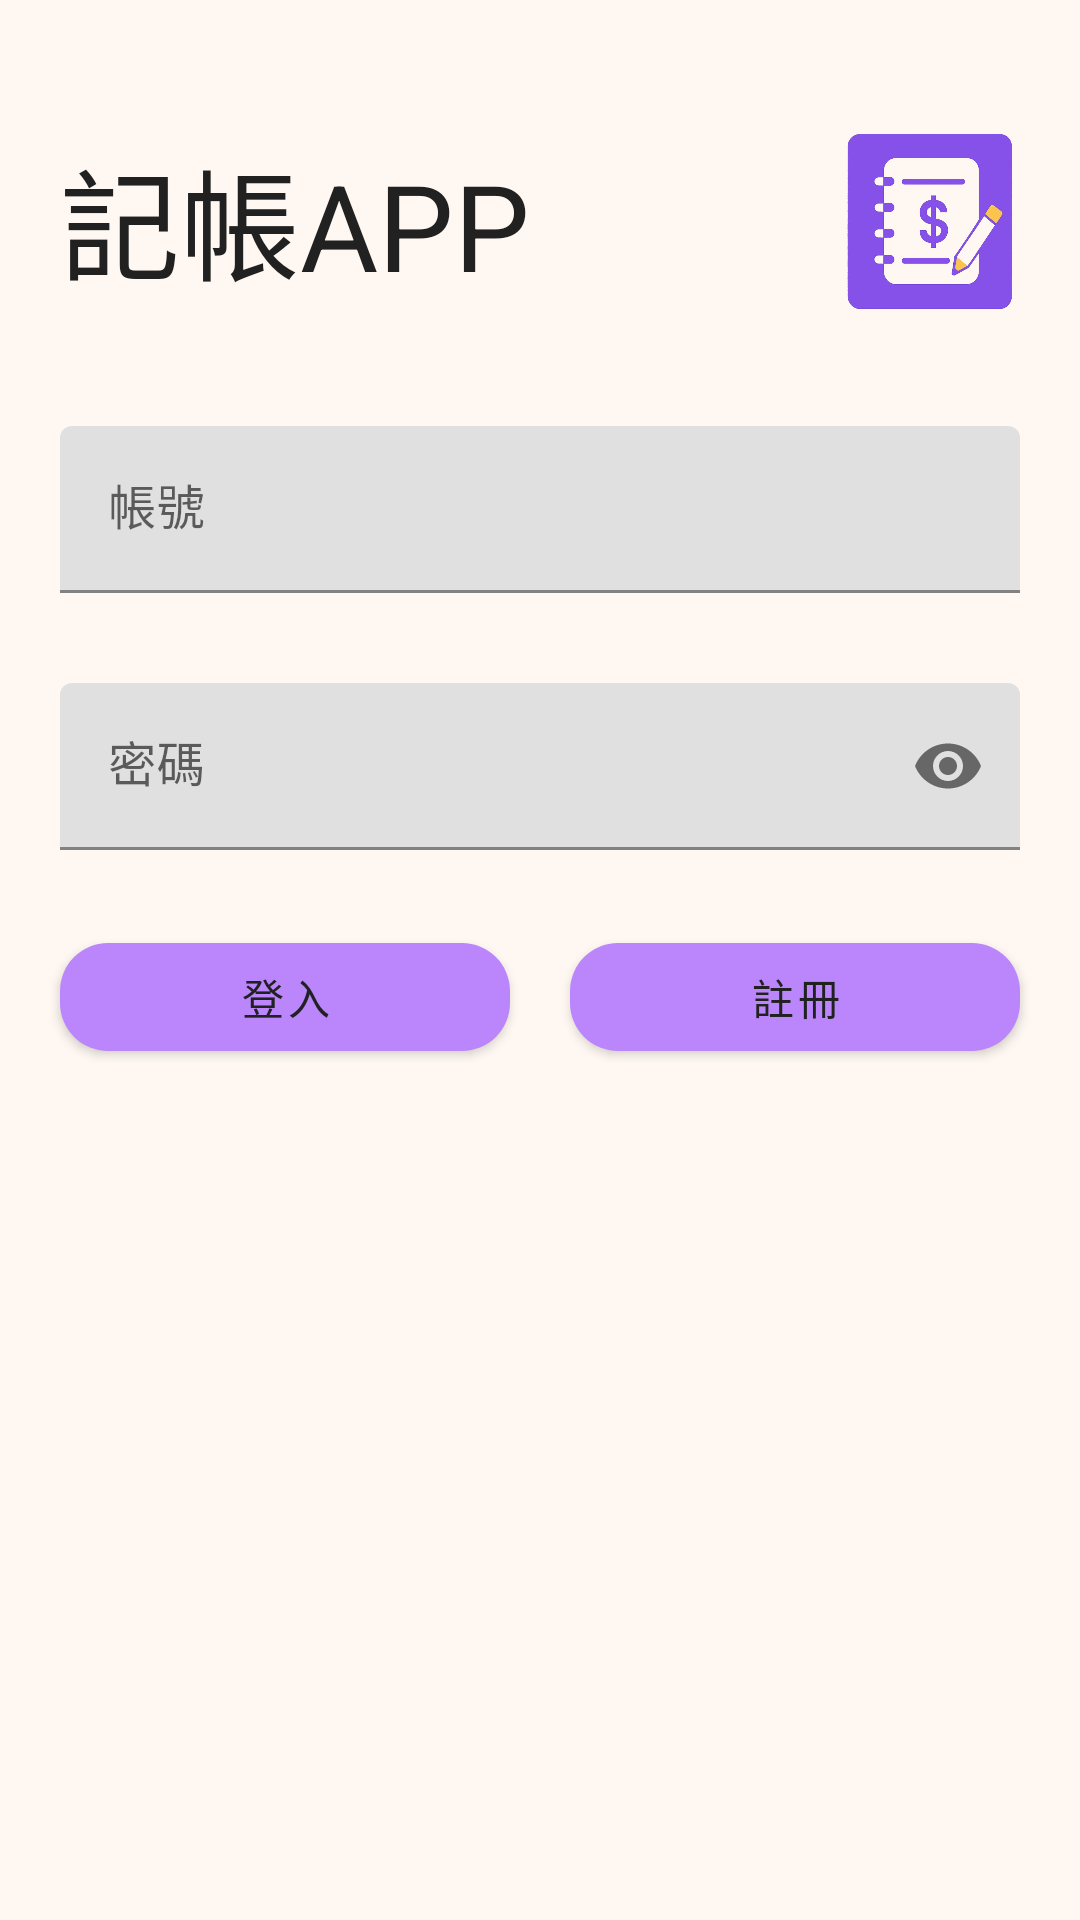

Where icons sit on this 1080 x 1920 app screen, as (x1, y1, x2, y2):
app: (847, 134, 1012, 309)
